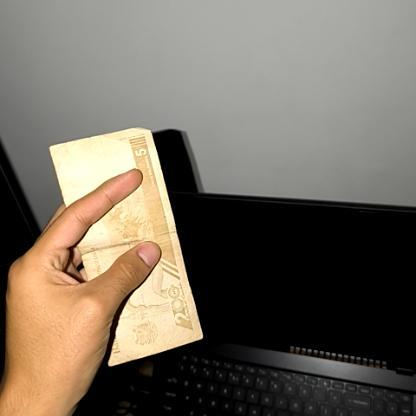five-back-vef: (49, 128, 204, 366)
